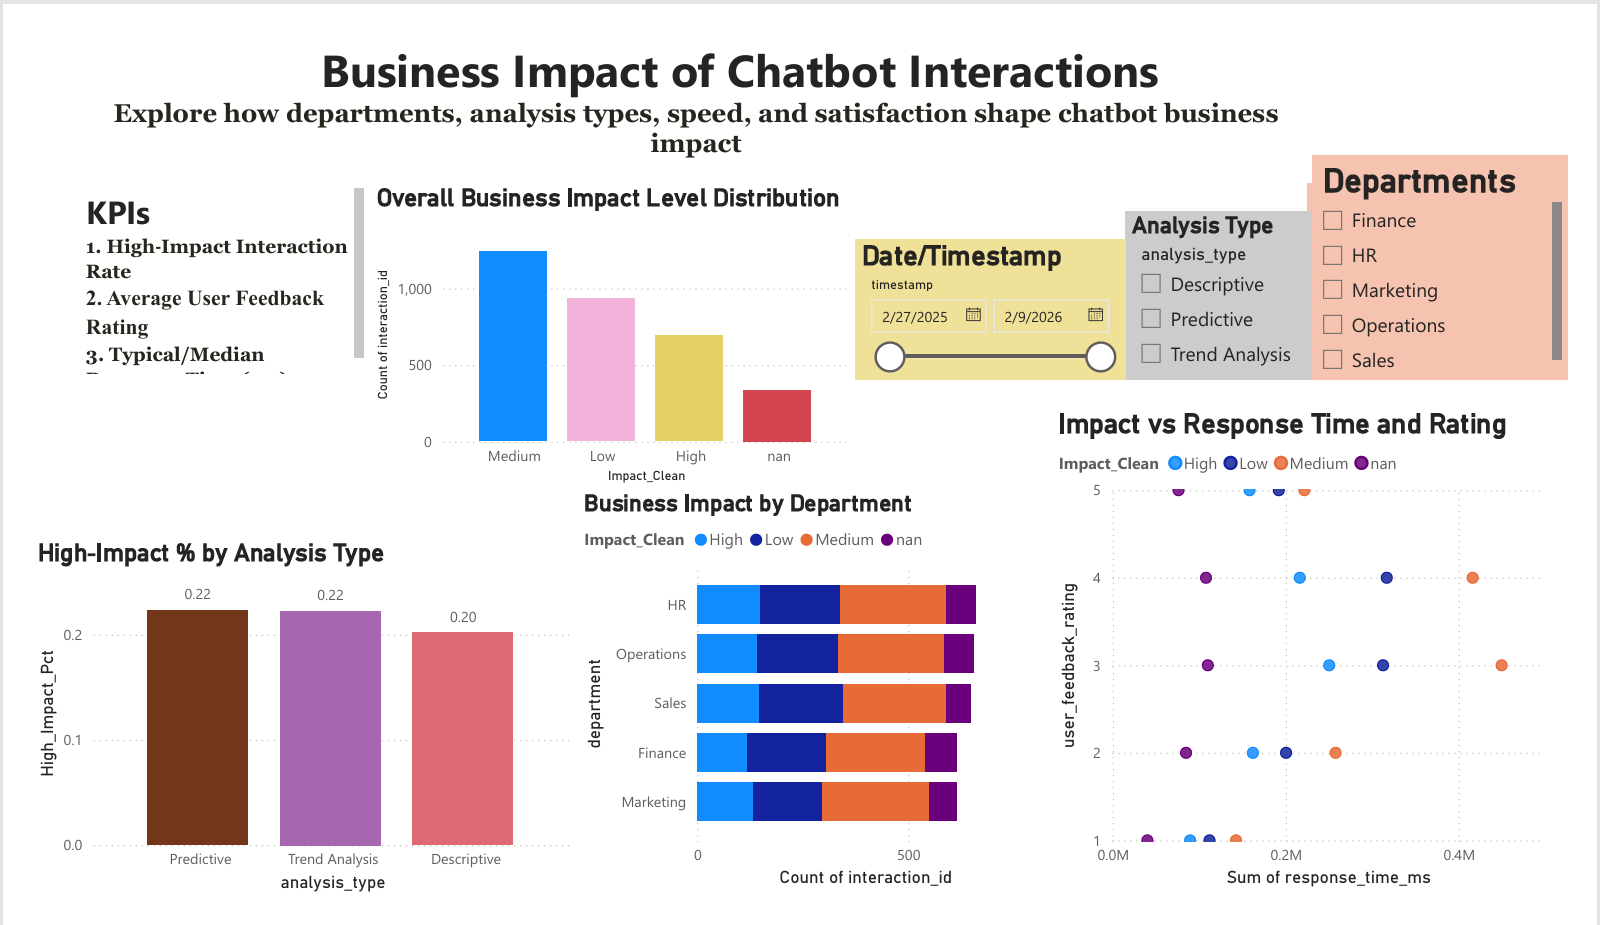

The page's visual inventory and layout, read from the dashboard file:
{"tool":"powerbi","page":{"name":"Page 1","canvas":[1280,720],"ordinal":0},"visuals":[{"type":"clusteredColumnChart","title":"Overall Business Impact Level Distribution","fields":{"Category":["BI_Chatbot_Interactions.Impact_Clean"],"Y":["CountNonNull(BI_Chatbot_Interactions.interaction_id)"]},"box":[281.6,124.7,404.4,255.1],"z":0},{"type":"barChart","title":"Business Impact by Department","fields":{"Category":["BI_Chatbot_Interactions.department"],"Series":["BI_Chatbot_Interactions.Impact_Clean"],"Y":["CountNonNull(BI_Chatbot_Interactions.interaction_id)"]},"box":[455.4,379.8,395,336.4],"z":1000},{"type":"scatterChart","title":"Impact vs Response Time and Rating","fields":{"X":["Sum(BI_Chatbot_Interactions.response_time_ms)"],"Y":["BI_Chatbot_Interactions.user_feedback_rating"],"Series":["BI_Chatbot_Interactions.Impact_Clean"]},"box":[850.4,311.8,429,404.4],"z":2000},{"type":"slicer","fields":{"Values":["BI_Chatbot_Interactions.department"]},"box":[1062.1,102,217.3,187.1],"z":3000},{"type":"slicer","title":"Analysis Type","fields":{"Values":["BI_Chatbot_Interactions.analysis_type"]},"box":[910.9,149.3,155,139.8],"z":4000},{"type":"slicer","title":"Date/Timestamp","fields":{"Values":["BI_Chatbot_Interactions.timestamp"]},"box":[686,172,224.9,117.2],"z":5000},{"type":"clusteredColumnChart","title":"High‑Impact % by Analysis Type","fields":{"Category":["BI_Chatbot_Interactions.analysis_type"],"Y":["BI_Chatbot_Interactions.High_Impact_Pct"]},"box":[0,419.5,455.4,300.5],"z":6000},{"type":"textbox","box":[39.7,0,1026.1,124.7],"z":7000},{"type":"textbox","box":[39.7,124.7,241.9,164.4],"z":7001}]}

Visuals, with their boxes in screenshot pixels (x1, y1, x2, y2), scaled from the page's 1280x720 canvas onto the 1600x925 screenshot:
"Overall Business Impact Level Distribution" clusteredColumnChart: 352, 160, 858, 488
"Business Impact by Department" barChart: 569, 488, 1063, 920
"Impact vs Response Time and Rating" scatterChart: 1063, 401, 1599, 920
slicer - BI_Chatbot_Interactions.department: 1328, 131, 1599, 371
"Analysis Type" slicer: 1139, 192, 1332, 371
"Date/Timestamp" slicer: 858, 221, 1139, 372
"High‑Impact % by Analysis Type" clusteredColumnChart: 0, 539, 569, 924
textbox: 50, 0, 1332, 160
textbox: 50, 160, 352, 371
